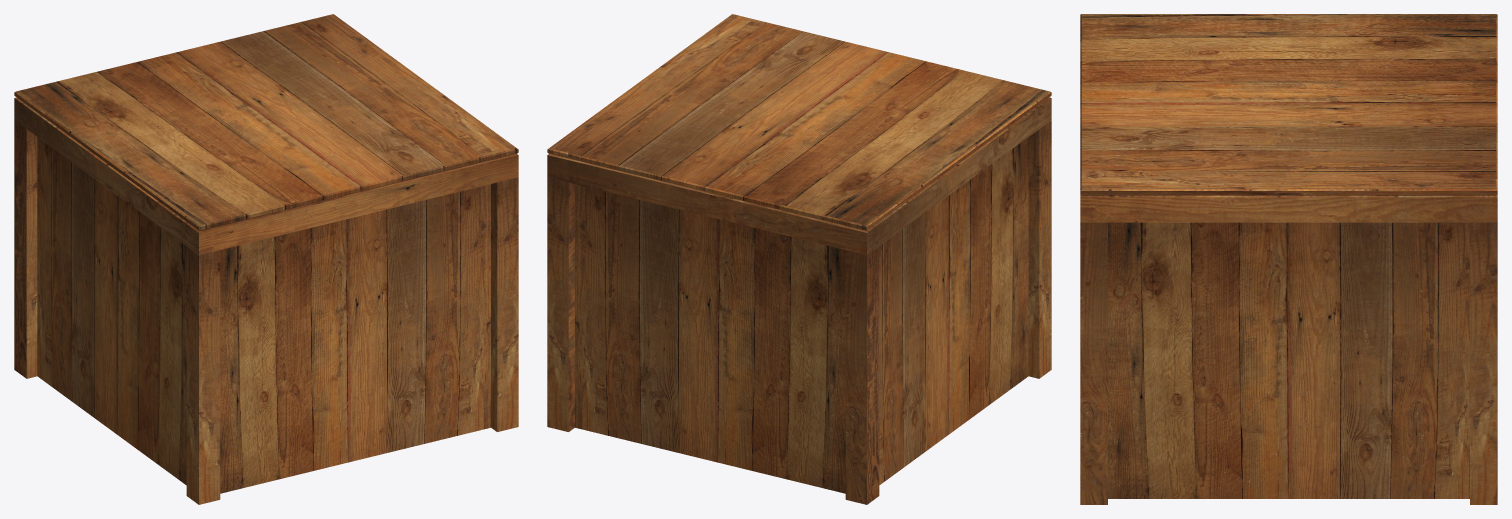
Rendered from Location.fbx.
3 renders of one model, left to right at view 1: azimuth 30°, elevation 25°; view 2: azimuth 150°, elevation 25°; view 3: azimuth 270°, elevation 25°, orthographic. The views are drawn at different scales.
Visible parts, largest first — view 1: Loacation; view 2: Loacation; view 3: Loacation.
Part boxes in pixels (left/top/right/bottom): Loacation: left=14, top=14, right=518, bottom=504; Loacation: left=547, top=14, right=1051, bottom=504; Loacation: left=1080, top=14, right=1497, bottom=504.
Size of the model in its own units: 300 by 250 by 300.
